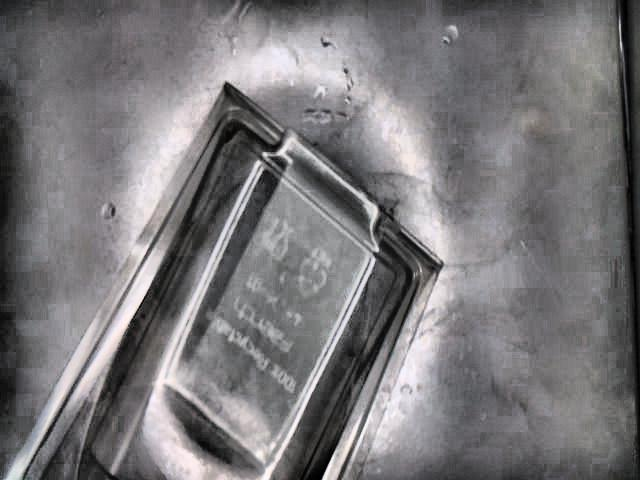Plastic: (5, 81, 447, 480)
